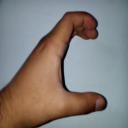hand: (0, 10, 108, 127)
